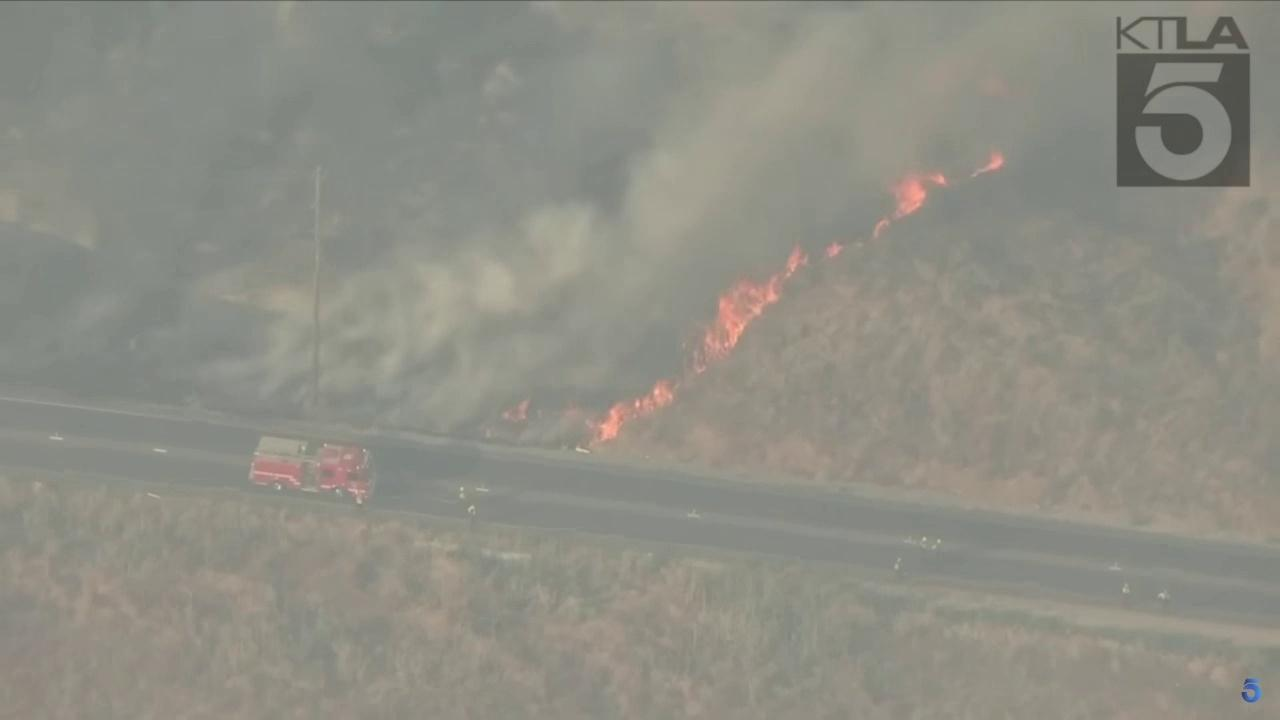fire: (690, 244, 809, 376), (588, 376, 676, 447), (871, 172, 946, 238), (970, 148, 1006, 179), (500, 397, 530, 424), (824, 239, 845, 259)
smoke: (161, 0, 1113, 439)
